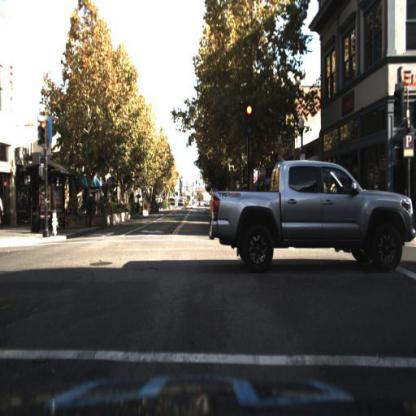pedestrian: (88, 191, 98, 226)
trafficLight-Red: (38, 112, 52, 145), (246, 101, 255, 129)
truck: (210, 160, 416, 276)
